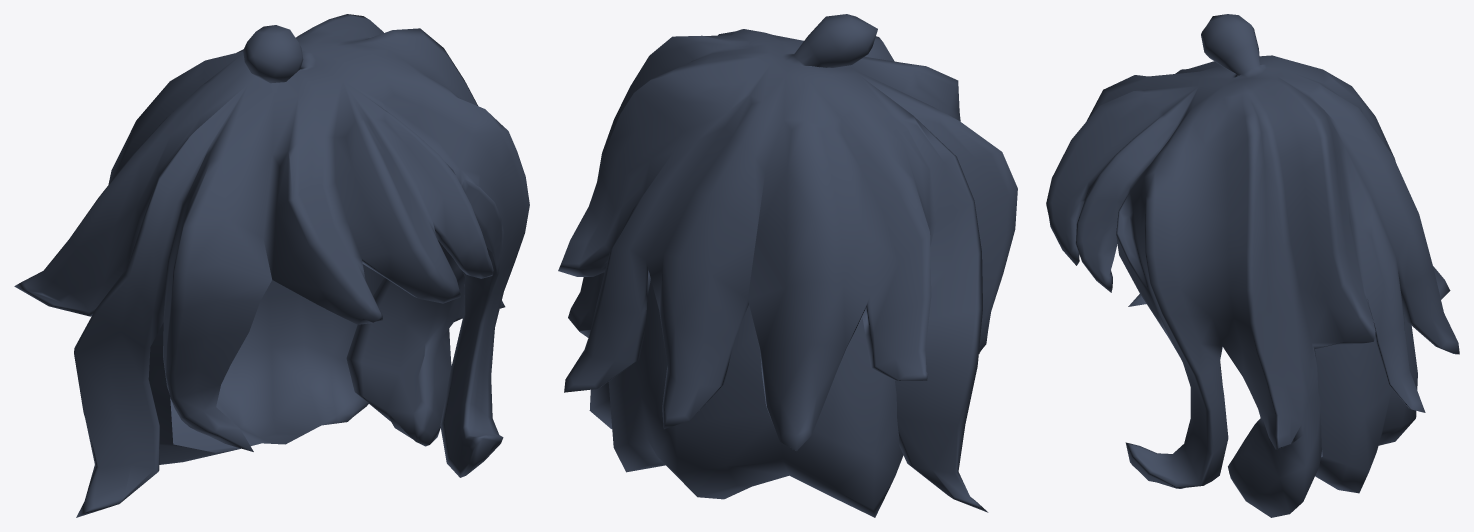
File: playerHair.fbx
3 renders of one model, left to right at view 1: azimuth 30°, elevation 25°; view 2: azimuth 150°, elevation 25°; view 3: azimuth 270°, elevation 25°, orthographic. The views are drawn at different scales.
Visible parts, largest first — view 1: pCube52; view 2: pCube52; view 3: pCube52.
Boxes of the visible parts, bbox=[...] form: pCube52: bbox=[14, 14, 529, 517]; pCube52: bbox=[558, 14, 1017, 517]; pCube52: bbox=[1046, 14, 1459, 517].
Size of the model in its own units: 6.33 by 6.55 by 5.87.
